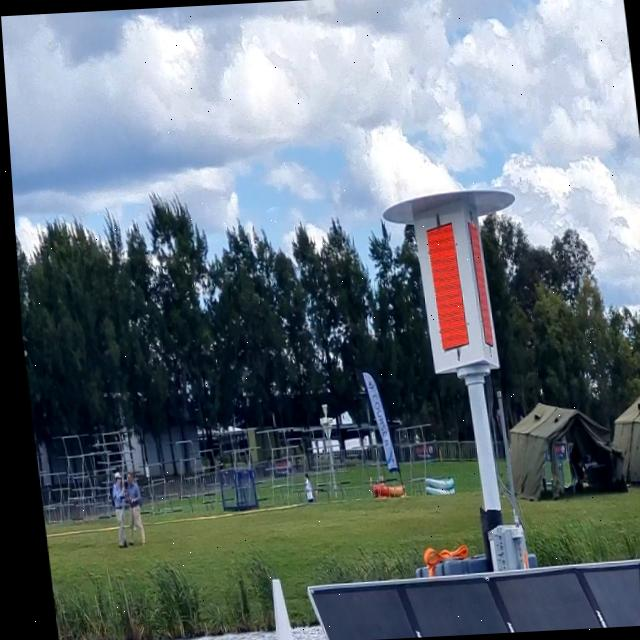led: (416, 215, 473, 359)
